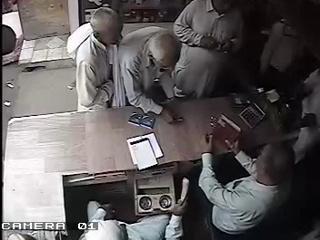Normal: (198, 114, 298, 240), (172, 0, 248, 100), (78, 179, 188, 240), (116, 26, 182, 122)
shoplifting: (66, 7, 125, 112)
